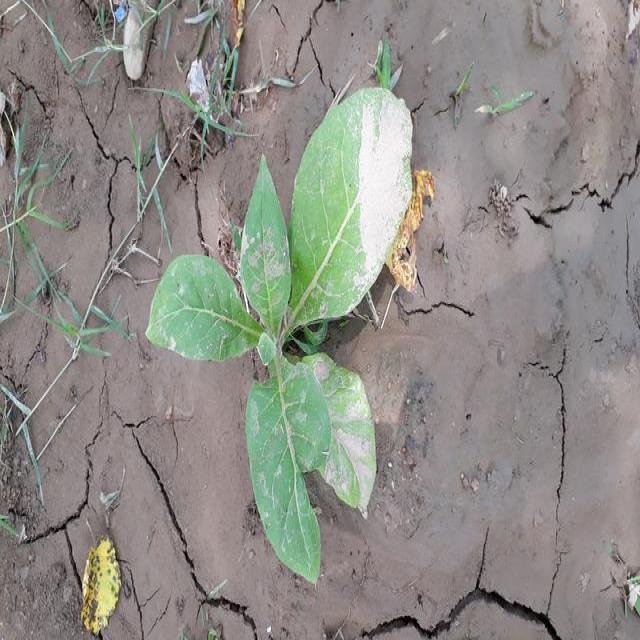crop: (148, 91, 408, 566)
